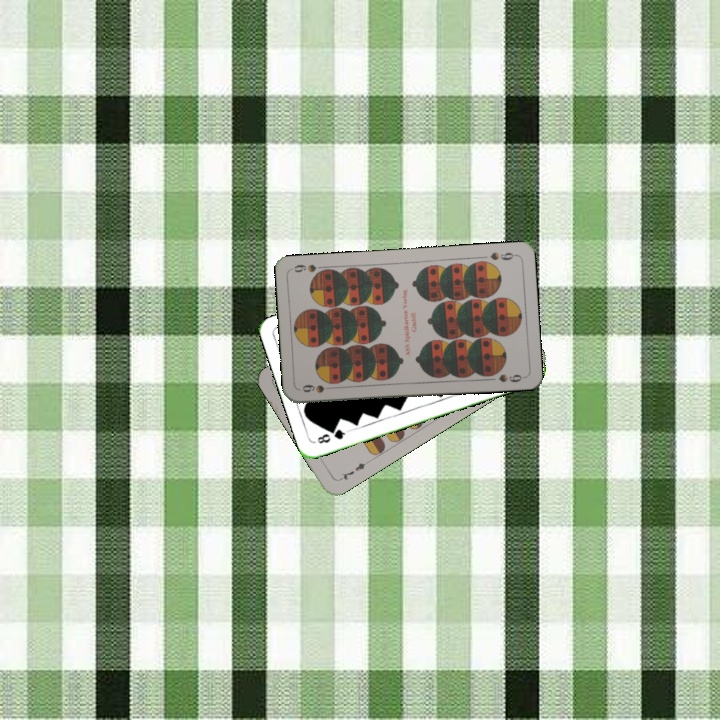E7: (335, 457, 372, 483)
G8: (313, 425, 348, 446)
S9: (298, 381, 338, 395), (486, 248, 519, 263)
